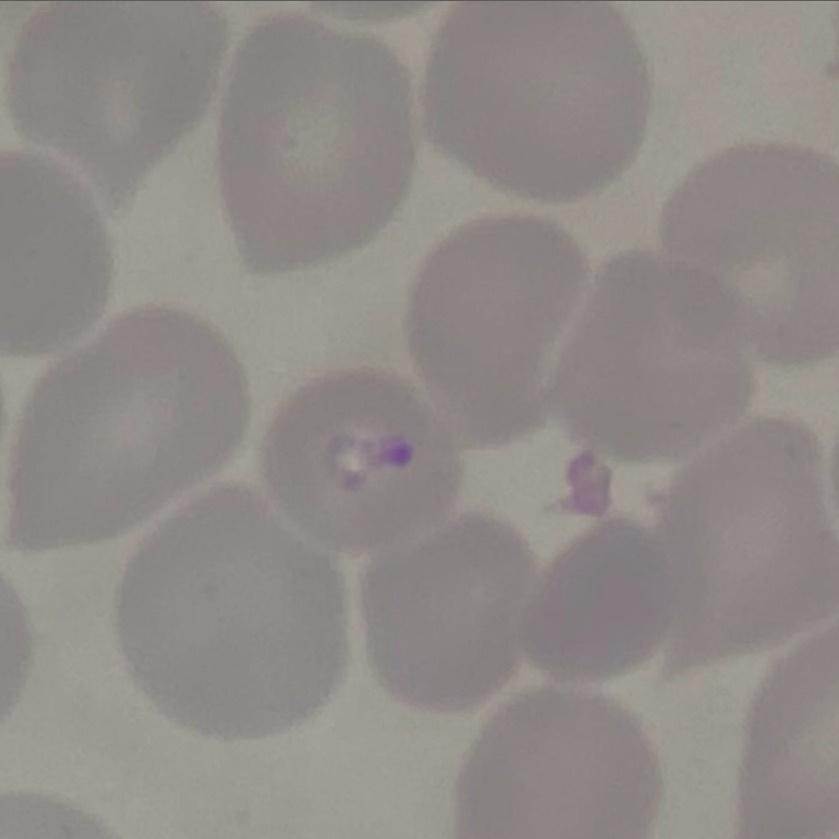Infected: (263, 367, 461, 551)
Uninfected: (0, 302, 246, 545), (115, 485, 345, 740), (215, 17, 421, 275), (643, 419, 839, 689), (2, 0, 227, 224), (548, 252, 759, 465), (425, 0, 645, 202), (665, 140, 839, 374), (407, 214, 583, 440), (358, 515, 529, 715), (455, 694, 665, 839), (512, 519, 661, 684)
